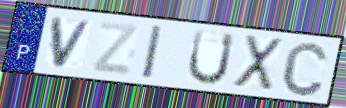C: (279, 39, 331, 98)
I: (140, 23, 165, 82)
U: (185, 28, 238, 87)
V: (50, 16, 96, 70)
X: (230, 33, 285, 95)
Z: (89, 20, 141, 78)
